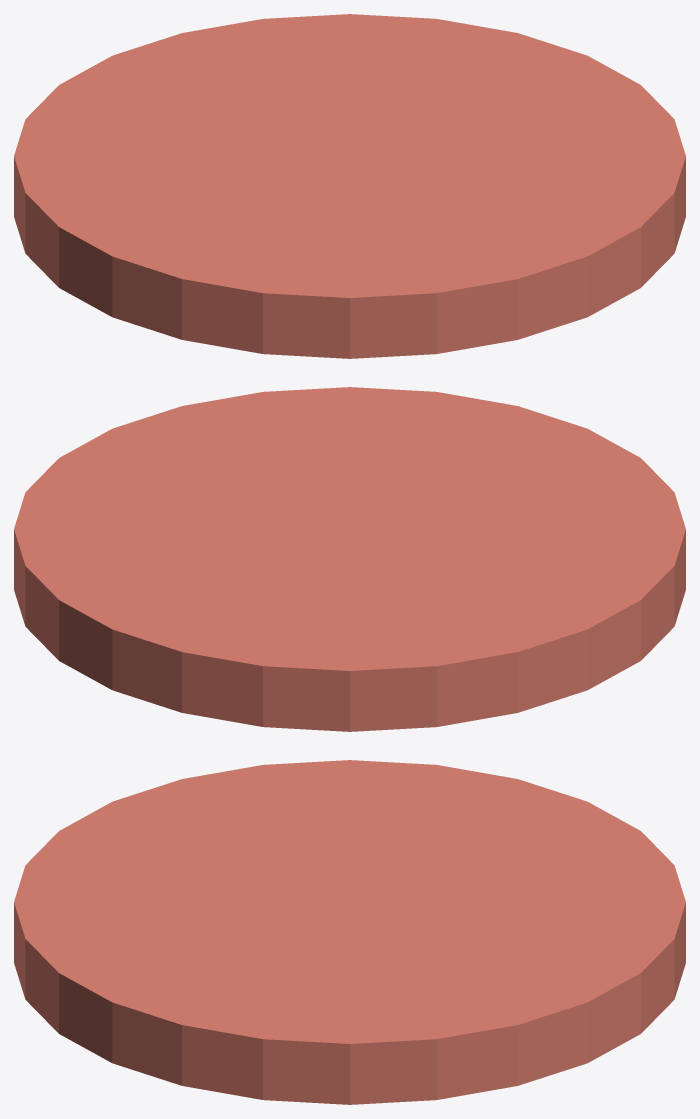
The model's file is samurai_headband.glb.
3 views of the same model, one above another, from view 1: azimuth 30°, elevation 25°; view 2: azimuth 150°, elevation 25°; view 3: azimuth 270°, elevation 25° (orthographic).
Parts seen in each view (by area): view 1: geometry_0; view 2: geometry_0; view 3: geometry_0.
Boxes of the visible parts, x1,y1,x2,y2 form: geometry_0: [14, 14, 685, 358]; geometry_0: [14, 387, 685, 731]; geometry_0: [14, 760, 685, 1104].
Bounding box in the file's own units: 1.2 × 0.12 × 1.2.
